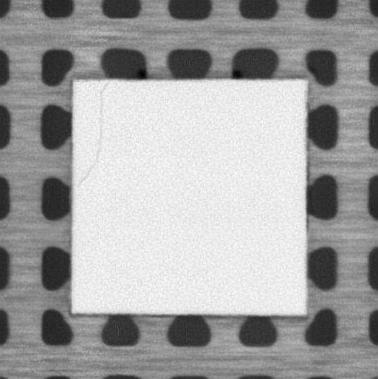DIE_CRACK: (79, 81, 108, 181)
